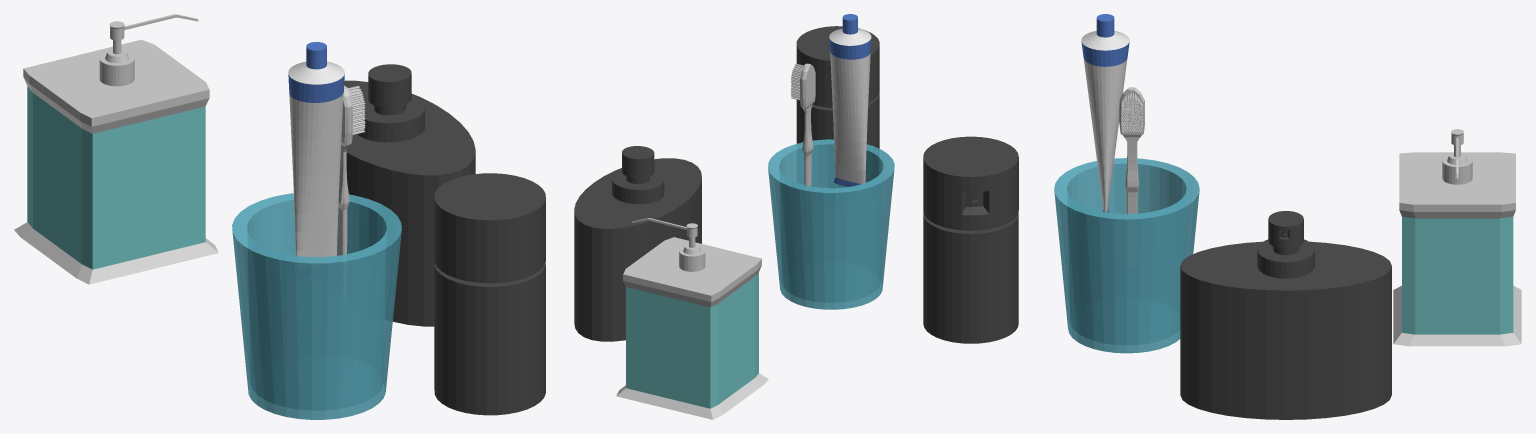
The model's file is Bahtroomdecoration.fbx.
3 renders of one model, left to right at view 1: azimuth 30°, elevation 25°; view 2: azimuth 150°, elevation 25°; view 3: azimuth 270°, elevation 25°, orthographic. The views are drawn at different scales.
Visible parts, largest first — view 1: Cube.001, Cylinder, Cylinder.002, Cylinder.003, Cylinder.001, Cube; view 2: Cube.001, Cylinder, Cylinder.003, Cylinder.001, Cylinder.002, Cube; view 3: Cylinder.003, Cube.001, Cylinder, Cylinder.002, Cylinder.001, Cube.
Part boxes in pixels (x1,y1,x2,y2): Cube.001: (14,14,218,284); Cylinder: (232,193,401,419); Cylinder.002: (434,173,545,415); Cylinder.003: (344,64,475,326); Cylinder.001: (288,42,344,256); Cube: (337,85,365,255); Cube.001: (616,218,768,419); Cylinder: (768,139,894,309); Cylinder.003: (574,146,701,341); Cylinder.001: (829,14,871,186); Cylinder.002: (796,26,879,148); Cube: (790,63,815,186); Cylinder.003: (1180,211,1391,419); Cube.001: (1393,129,1521,346); Cylinder: (1054,158,1199,353); Cylinder.002: (923,136,1018,343); Cylinder.001: (1081,14,1129,212); Cube: (1119,87,1144,213).
Bounding box in the file's own units: 416 × 472 × 839.
